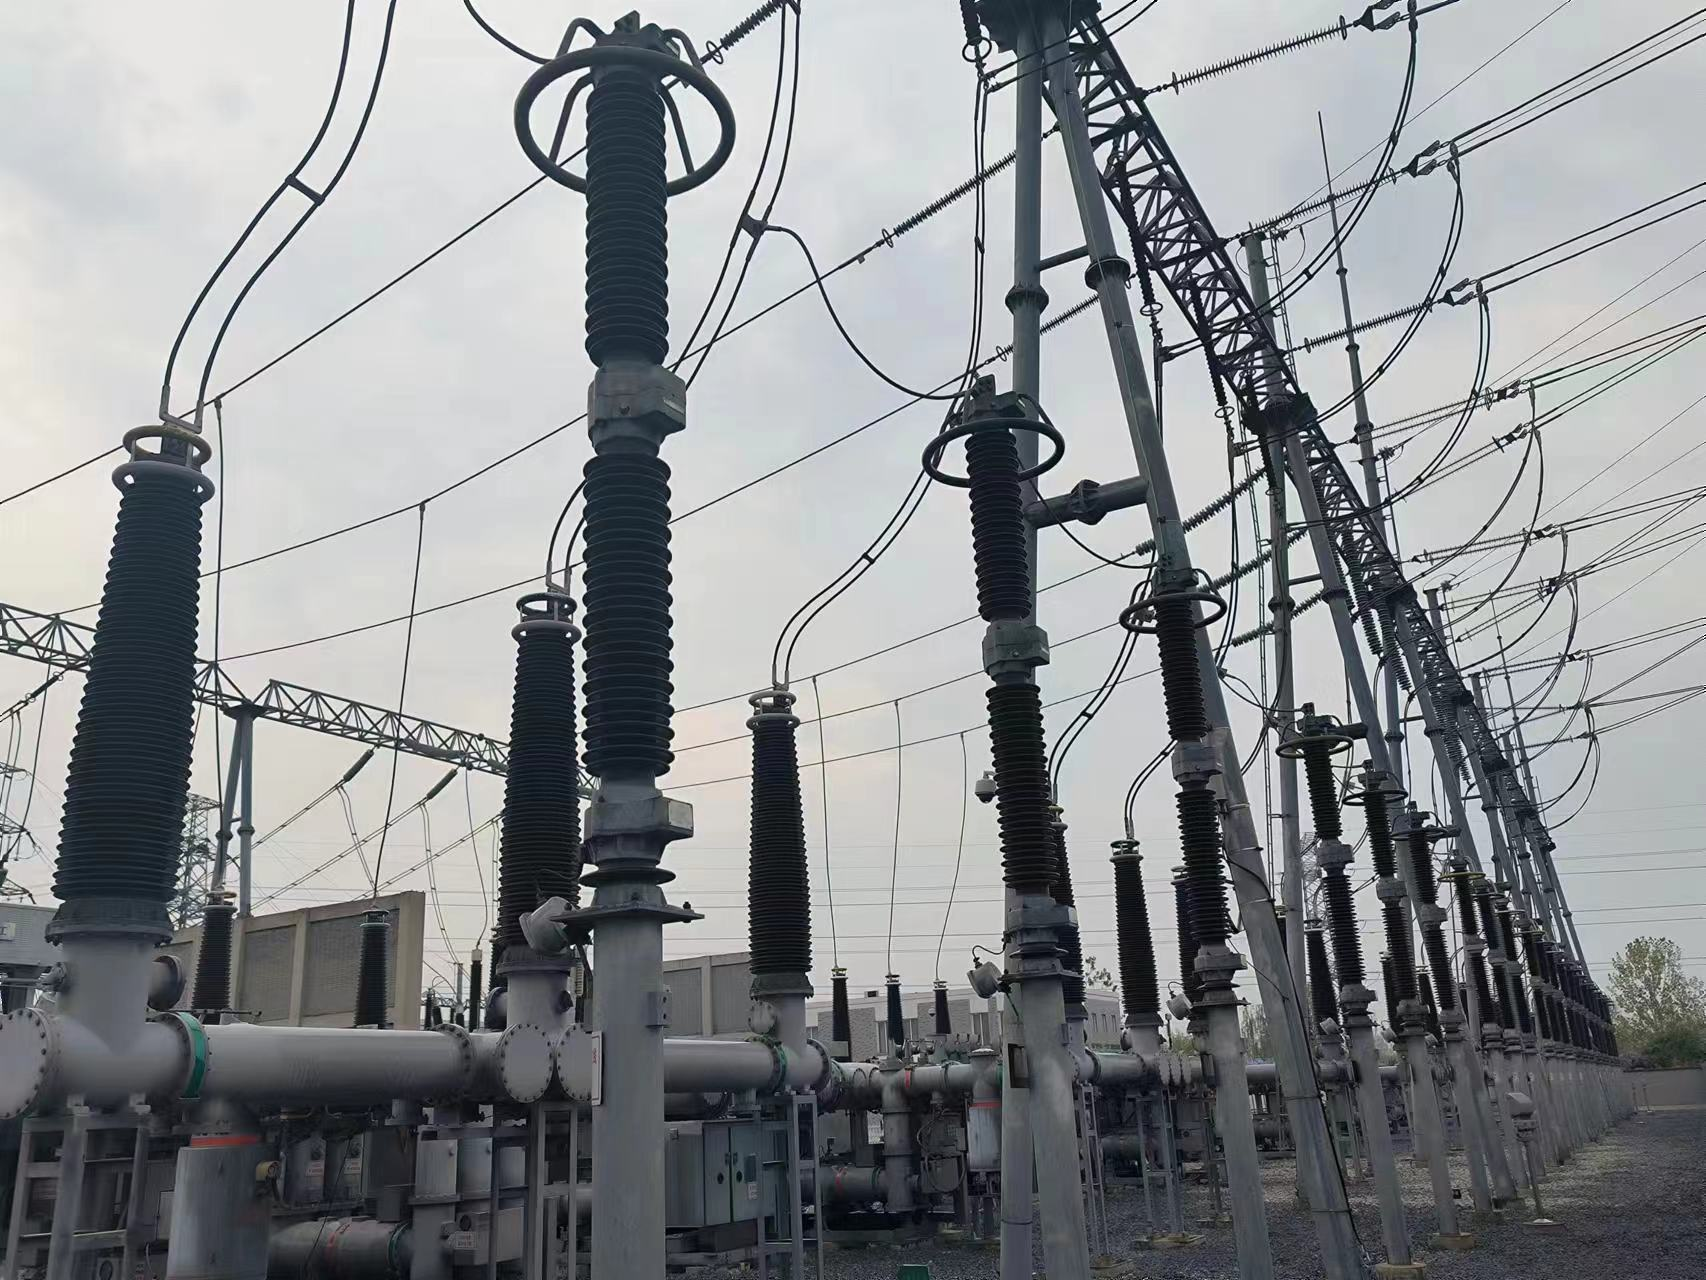Arrester: (510, 11, 739, 765), (920, 378, 1073, 897), (1116, 566, 1252, 947)
Voltage transformer: (44, 425, 225, 906), (493, 589, 579, 949), (735, 687, 813, 975)
